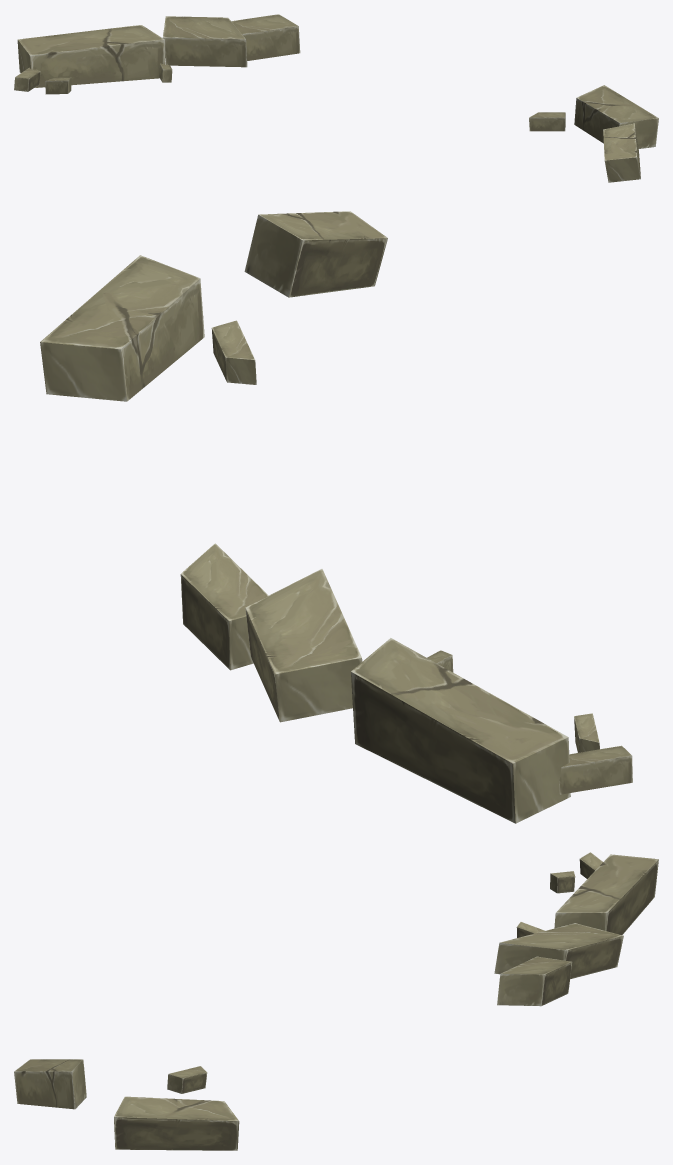
The model's file is wallrocks_concavetop.fbx.
3 views of the same model, one above another, from view 1: azimuth 30°, elevation 25°; view 2: azimuth 150°, elevation 25°; view 3: azimuth 270°, elevation 25° (orthographic). The views are drawn at different scales.
Parts seen in each view (by area): view 1: rocks11; view 2: rocks11; view 3: rocks11.
Part boxes in pixels (x1,y1,x2,y2): rocks11: [14, 14, 658, 182]; rocks11: [40, 211, 632, 823]; rocks11: [14, 852, 658, 1150].
Bounding box in the file's own units: 1.88 × 0.2141 × 1.97.
